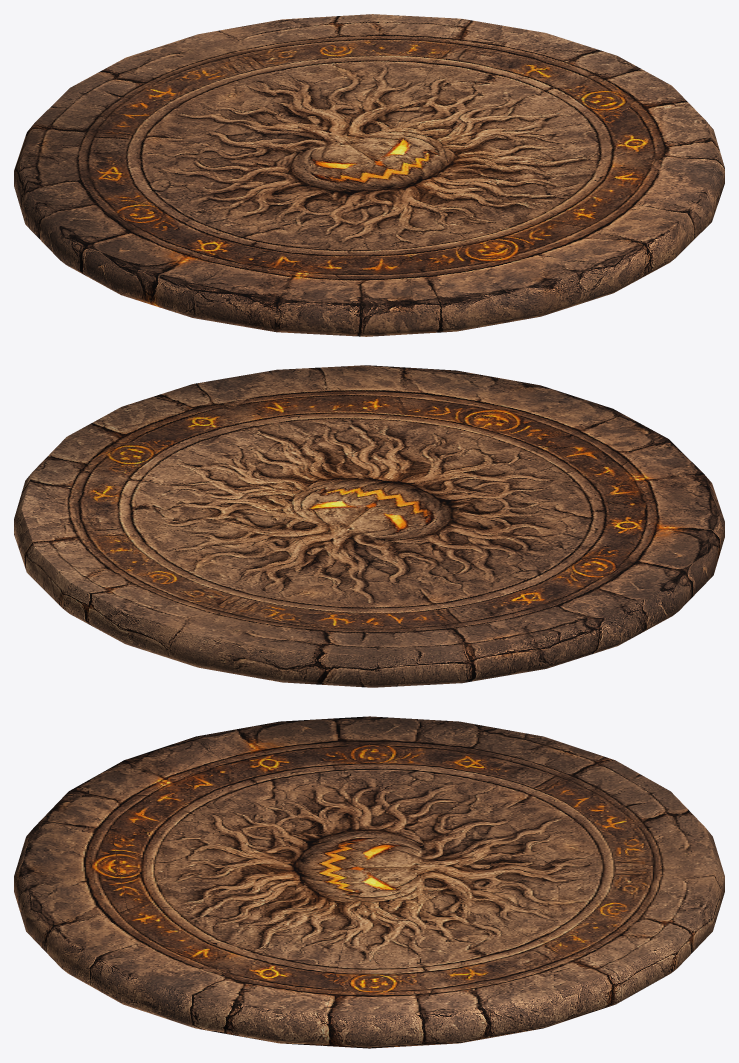
File: Rooftop_Base_Z_Lid_Drop.fbx
3 views of the same model, one above another, from view 1: azimuth 30°, elevation 25°; view 2: azimuth 150°, elevation 25°; view 3: azimuth 270°, elevation 25° (orthographic).
Parts seen in each view (by area): view 1: Rooftop_Base_Z_Lid_cell.002, Rooftop_Base_Z_Lid_cell.003, Rooftop_Base_Z_Lid_cell.006, Rooftop_Base_Z_Lid_cell.004, Rooftop_Base_Z_Lid_cell, Rooftop_Base_Z_Lid_cell.005, Rooftop_Base_Z_Lid_cell.001; view 2: Rooftop_Base_Z_Lid_cell.002, Rooftop_Base_Z_Lid_cell.003, Rooftop_Base_Z_Lid_cell.006, Rooftop_Base_Z_Lid_cell, Rooftop_Base_Z_Lid_cell.004, Rooftop_Base_Z_Lid_cell.005, Rooftop_Base_Z_Lid_cell.001; view 3: Rooftop_Base_Z_Lid_cell.002, Rooftop_Base_Z_Lid_cell.003, Rooftop_Base_Z_Lid_cell, Rooftop_Base_Z_Lid_cell.004, Rooftop_Base_Z_Lid_cell.006, Rooftop_Base_Z_Lid_cell.005, Rooftop_Base_Z_Lid_cell.001.
Part boxes in pixels (x1,y1,x2,y2): Rooftop_Base_Z_Lid_cell.002: [14, 95, 412, 314]; Rooftop_Base_Z_Lid_cell.003: [63, 14, 461, 125]; Rooftop_Base_Z_Lid_cell.006: [215, 133, 575, 275]; Rooftop_Base_Z_Lid_cell.004: [463, 103, 724, 277]; Rooftop_Base_Z_Lid_cell: [397, 19, 688, 145]; Rooftop_Base_Z_Lid_cell.005: [409, 226, 646, 334]; Rooftop_Base_Z_Lid_cell.001: [177, 274, 412, 336]; Rooftop_Base_Z_Lid_cell.002: [285, 508, 723, 686]; Rooftop_Base_Z_Lid_cell.003: [27, 518, 395, 687]; Rooftop_Base_Z_Lid_cell.006: [292, 402, 680, 510]; Rooftop_Base_Z_Lid_cell: [14, 422, 293, 572]; Rooftop_Base_Z_Lid_cell.004: [94, 365, 412, 486]; Rooftop_Base_Z_Lid_cell.005: [401, 368, 639, 438]; Rooftop_Base_Z_Lid_cell.001: [585, 423, 724, 541]; Rooftop_Base_Z_Lid_cell.002: [206, 716, 658, 896]; Rooftop_Base_Z_Lid_cell.003: [428, 785, 724, 1003]; Rooftop_Base_Z_Lid_cell: [322, 894, 621, 1048]; Rooftop_Base_Z_Lid_cell.004: [43, 909, 352, 1045]; Rooftop_Base_Z_Lid_cell.006: [109, 751, 401, 909]; Rooftop_Base_Z_Lid_cell.005: [14, 810, 126, 949]; Rooftop_Base_Z_Lid_cell.001: [51, 734, 209, 822].
Bounding box in the file's own units: 489 × 23.8 × 480.
